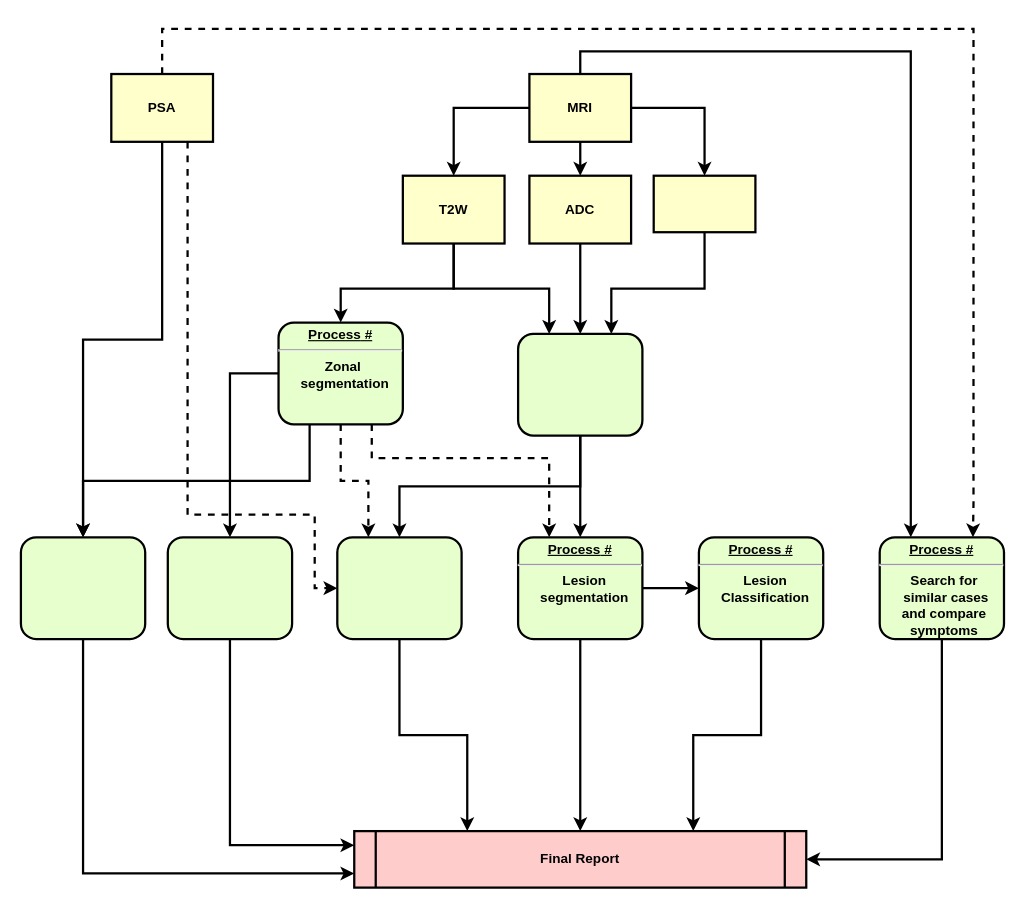
Image size: 1024x907. Some labels were removed from this diagram. The shapes that lost their labels are listed below. From the top down, each one's centre as x and y in pixels, then its label:
At pixel 704 203: "DWI".
At pixel 579 384: "Process # Registration".
At pixel 82 588: "Process # Assess the prostate cancer".
At pixel 229 588: "Process # Assess Prostate Volume".
At pixel 399 588: "Process # Hyperplasia Prostatitis Cancer Classification".
